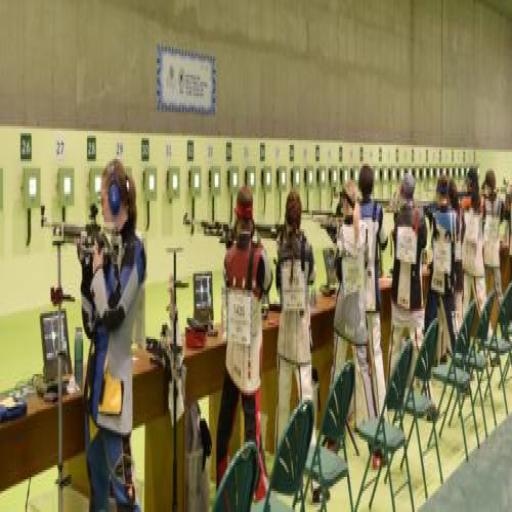shooting: (79, 156, 149, 510), (213, 182, 274, 505), (258, 149, 324, 435), (377, 166, 426, 439), (347, 136, 383, 413), (470, 116, 508, 374), (418, 171, 458, 372), (332, 186, 362, 433), (457, 157, 486, 381), (444, 150, 464, 364)
